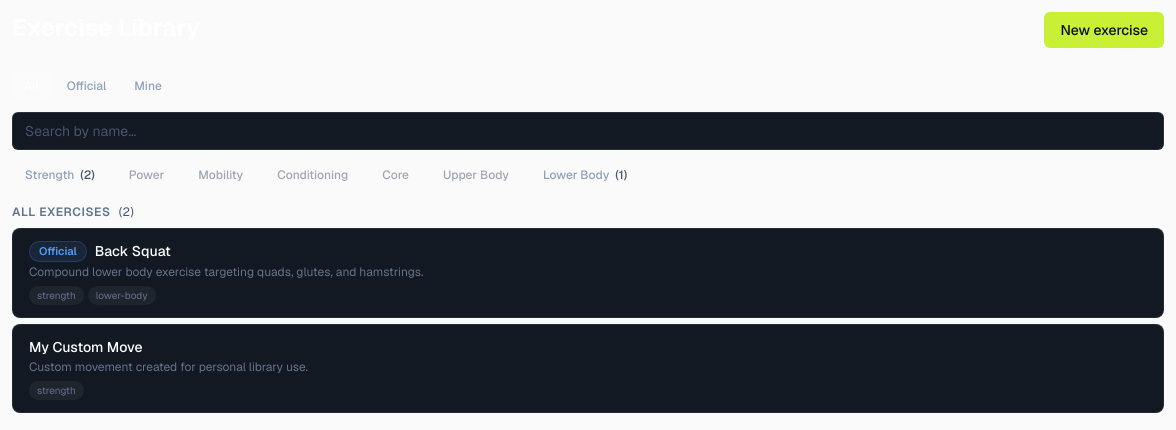
it: ExercisesPage — scope selector › clicking "All" resets the scope filter
The width and height of the screenshot is (1176, 430).
Expected: the text "Back Squat" is shown, [95,241,171,261]
What coordinates should you click on to do the following:
click the button "Mine"
I would click on:
 (148, 86)
Its box is [122,72,174,100].
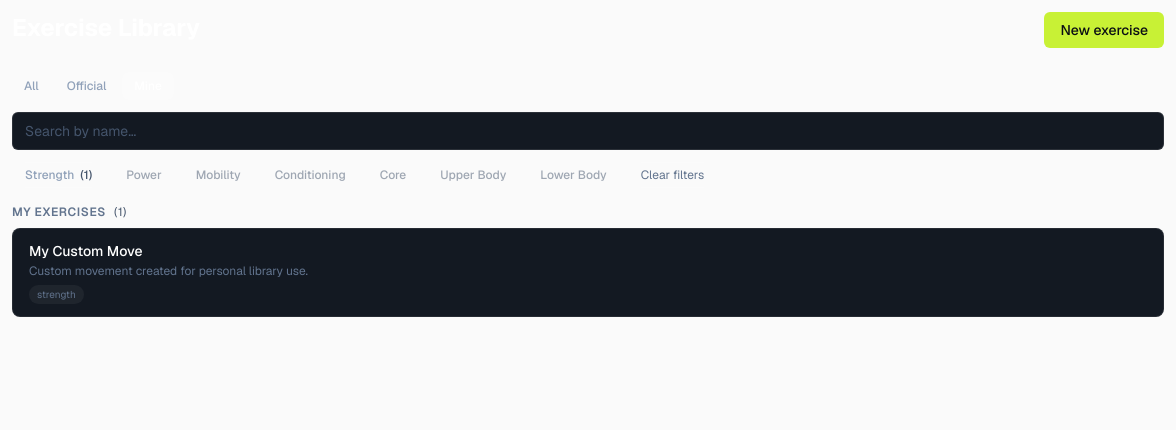
Expected: the text "Back Squat" is gone
What coordinates should you click on to do the following:
click the button "All"
I would click on:
 (31, 86)
Its box is [12,72,51,100].
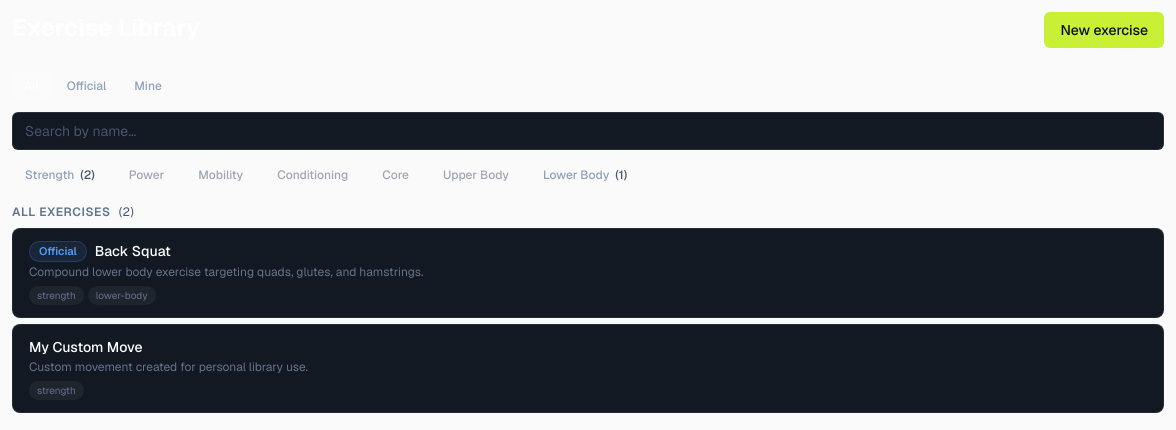
Expected: the text "My Custom Move" is shown, [29,336,143,356]
Expected: the text "Back Squat" is shown, [95,241,171,261]
